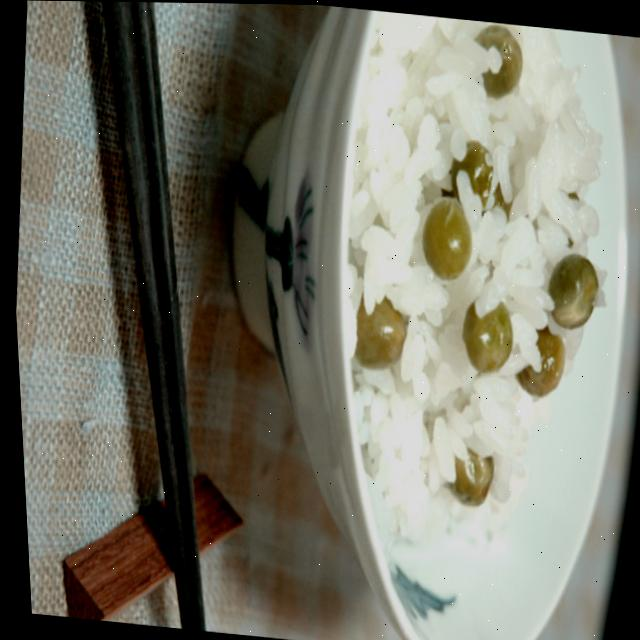米饭主食: (186, 2, 640, 640)
